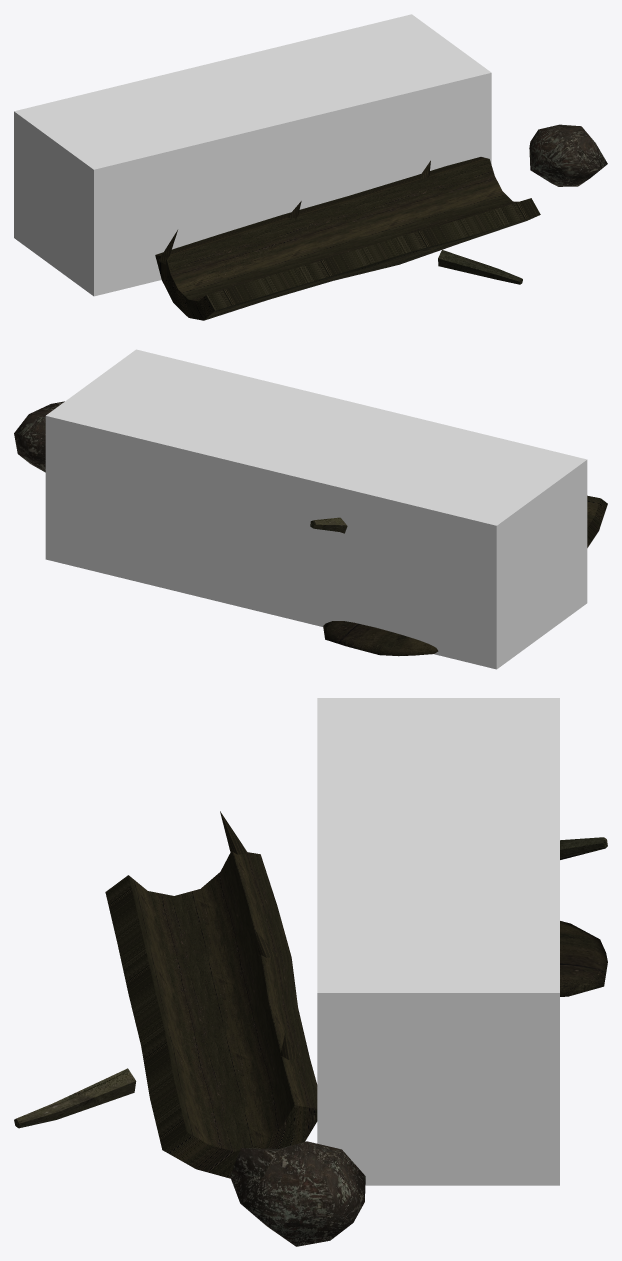
Rendered from hollow_log_opened.glb.
The picture shows the model from 3 angles, top to bottom: view 1: azimuth 30°, elevation 25°; view 2: azimuth 150°, elevation 25°; view 3: azimuth 270°, elevation 25°; orthographic projection. The views are drawn at different scales.
Parts seen in each view (by area): view 1: col_click, hollow_log_opened; view 2: col_click, hollow_log_opened; view 3: col_click, hollow_log_opened.
Part boxes in pixels (x1=…): col_click: x1=14, y1=14, x2=491, y2=296; hollow_log_opened: x1=155, y1=124, x2=607, y2=320; col_click: x1=45, y1=349, x2=587, y2=669; hollow_log_opened: x1=14, y1=401, x2=607, y2=656; col_click: x1=317, y1=698, x2=559, y2=1185; hollow_log_opened: x1=14, y1=811, x2=607, y2=1246.
Size of the model in its own units: 2.89 by 0.7193 by 1.96.
5 materials, 5 textured.
